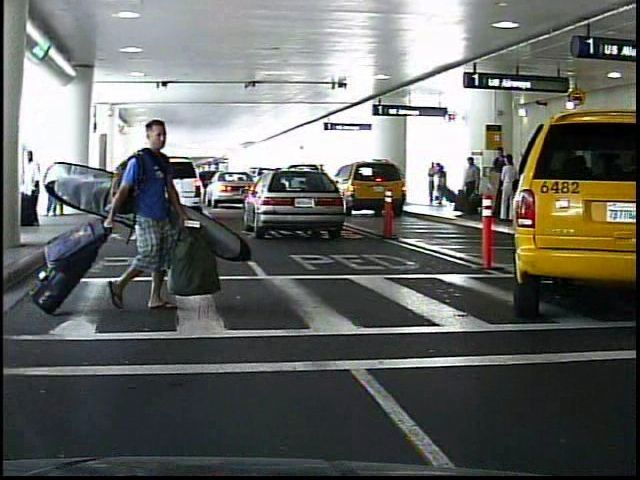person: (113, 111, 189, 334), (20, 153, 42, 232), (461, 157, 483, 220), (488, 143, 507, 215), (499, 154, 517, 224), (425, 162, 437, 208), (436, 163, 447, 207)
